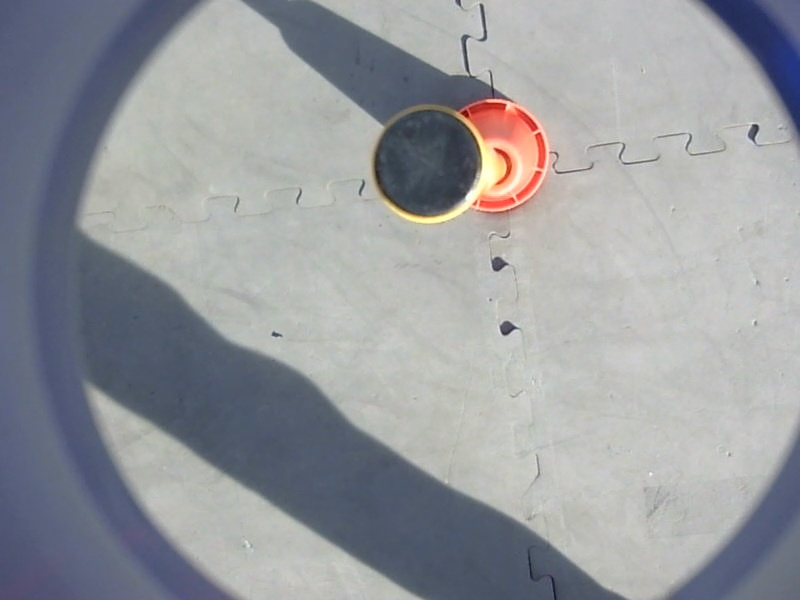tip: (364, 100, 489, 230)
